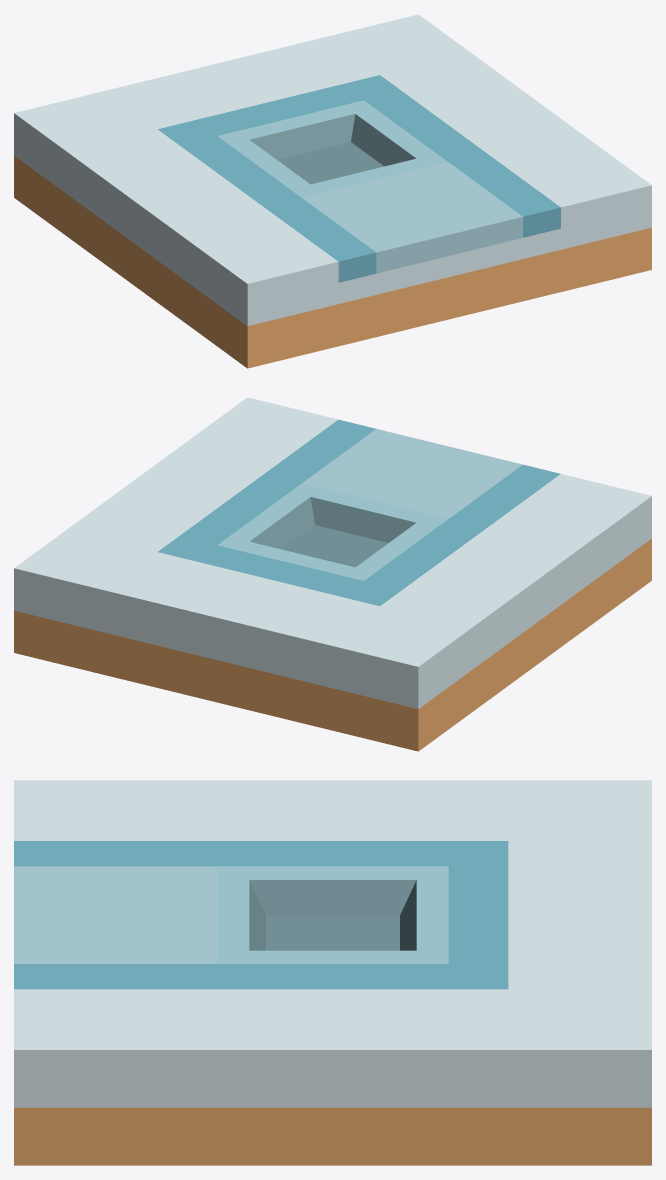
Rendered from snow_tile_endSpawn(+).fbx.
3 views of the same model, one above another, from view 1: azimuth 30°, elevation 25°; view 2: azimuth 150°, elevation 25°; view 3: azimuth 270°, elevation 25° (orthographic). The views are drawn at different scales.
Parts seen in each view (by area): view 1: Mesh_5; view 2: Mesh_5; view 3: Mesh_5.
Boxes of the visible parts, <box> form: Mesh_5: <box>14,14,651,368</box>; Mesh_5: <box>14,397,651,751</box>; Mesh_5: <box>14,780,651,1165</box>.
Bounding box in the file's own units: 100 × 20 × 100.
